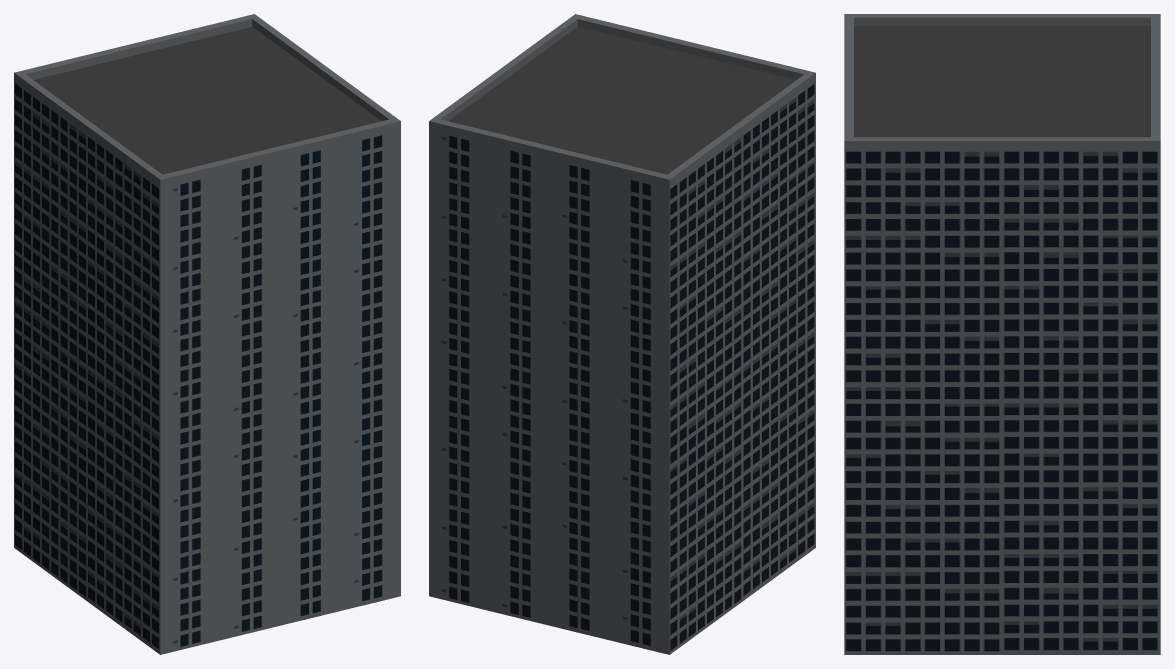
The model's file is SM_Env_Background_Building_Large_03.fbx.
3 renders of one model, left to right at view 1: azimuth 30°, elevation 25°; view 2: azimuth 150°, elevation 25°; view 3: azimuth 270°, elevation 25°, orthographic. The views are drawn at different scales.
Parts seen in each view (by area): view 1: SM_Env_Background_Building_Large_03; view 2: SM_Env_Background_Building_Large_03; view 3: SM_Env_Background_Building_Large_03.
Part boxes in pixels (x1,y1,x2,y2): SM_Env_Background_Building_Large_03: [14, 14, 400, 654]; SM_Env_Background_Building_Large_03: [429, 14, 815, 654]; SM_Env_Background_Building_Large_03: [844, 14, 1160, 654].
Bounding box in the file's own units: 2888 × 5452 × 3042.
